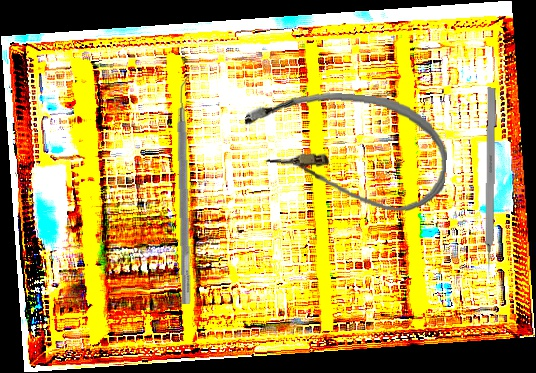Cannula: (238, 85, 452, 215)
Hook Surgical: (483, 87, 497, 280)
Spatula Surgical: (173, 74, 202, 304)
